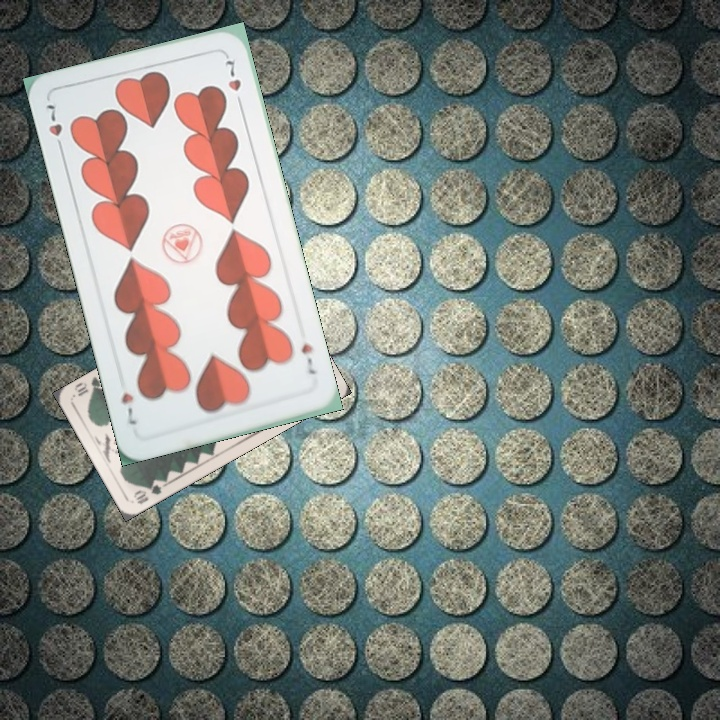G10: (129, 475, 169, 507)
H7: (42, 98, 67, 155), (297, 339, 318, 377)
